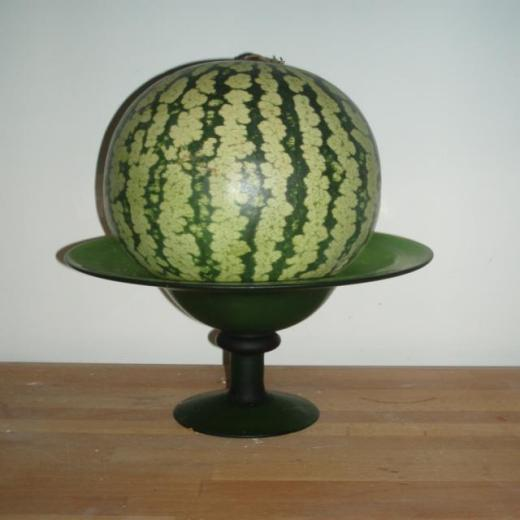Cherry: (102, 58, 381, 282)
